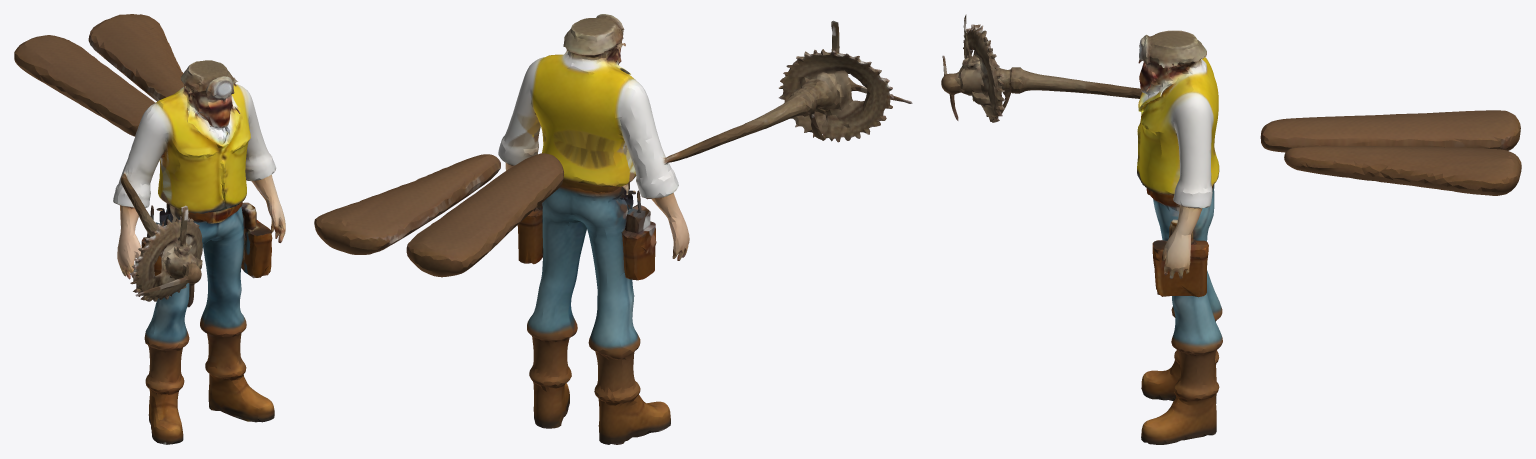
File: engenheiro.glb
3 renders of one model, left to right at view 1: azimuth 30°, elevation 25°; view 2: azimuth 150°, elevation 25°; view 3: azimuth 270°, elevation 25°, orthographic. The views are drawn at different scales.
Visible parts, largest first — view 1: engenheiro; view 2: engenheiro; view 3: engenheiro.
Boxes of the visible parts, left/top/right/bottom form: engenheiro: left=14, top=14, right=285, bottom=444; engenheiro: left=314, top=14, right=912, bottom=444; engenheiro: left=941, top=14, right=1521, bottom=444.
Bounding box in the file's own units: 1.12 × 1.37 × 1.89.
Materials: 1 (1 with a texture image).
